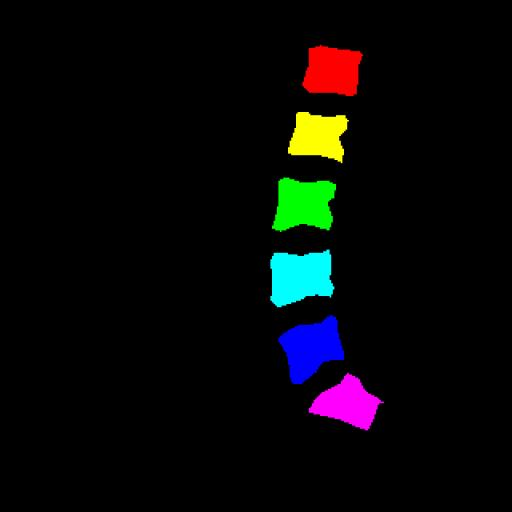L1: (303, 44, 361, 96)
L2: (288, 112, 347, 162)
L3: (272, 176, 336, 233)
L4: (269, 250, 336, 307)
L5: (279, 315, 344, 385)
S1: (308, 373, 383, 430)
